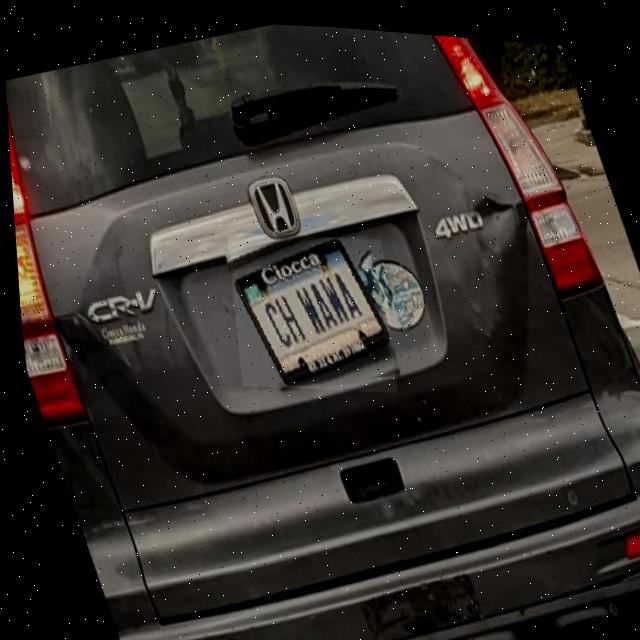LicensePlate: (228, 232, 387, 383)
